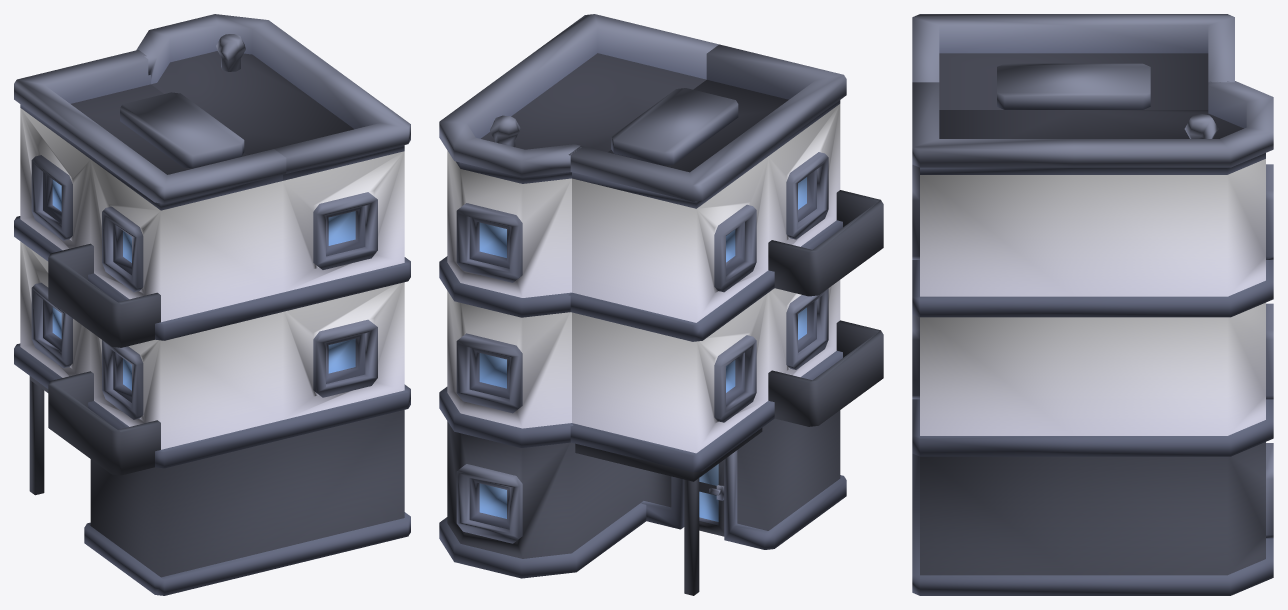
Rendered from building-b_lev1.glb.
3 views of the same model, side by side, from view 1: azimuth 30°, elevation 25°; view 2: azimuth 150°, elevation 25°; view 3: azimuth 270°, elevation 25° (orthographic). The views are drawn at different scales.
Parts seen in each view (by area): view 1: building-b_lev1; view 2: building-b_lev1; view 3: building-b_lev1.
Part boxes in pixels (x1,y1,x2,y2): building-b_lev1: [14, 14, 410, 595]; building-b_lev1: [439, 14, 883, 595]; building-b_lev1: [912, 14, 1273, 595].
Bounding box in the file's own units: 0.97 × 1.29 × 0.94.
1 material, 1 textured.
